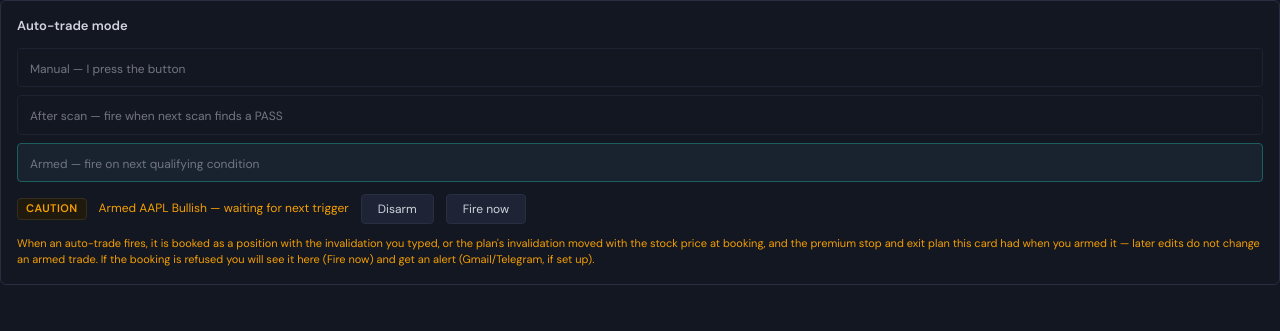
AutoTradeArm — O4 step 6: reading the /fire result › 15c. a plain 400 refusal renders red as before and does not sync
What coordinates should you click on to do the following:
click the button "Fire now"
I would click on:
 (486, 209)
Its box is [446, 194, 526, 224].
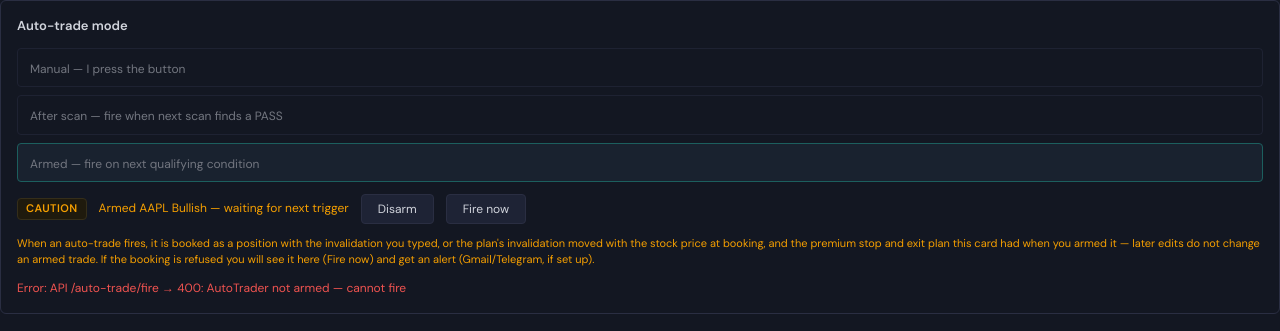
Expected: the text "AutoTrader not armed" is shown, [17, 280, 406, 296]
